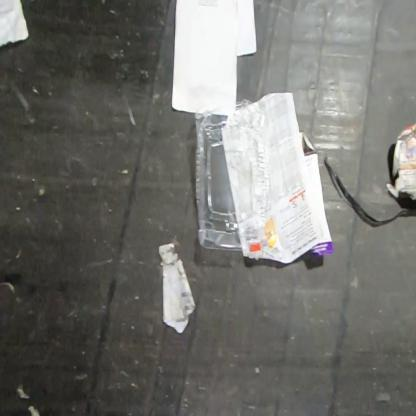rigid_plastic: (193, 98, 274, 253)
